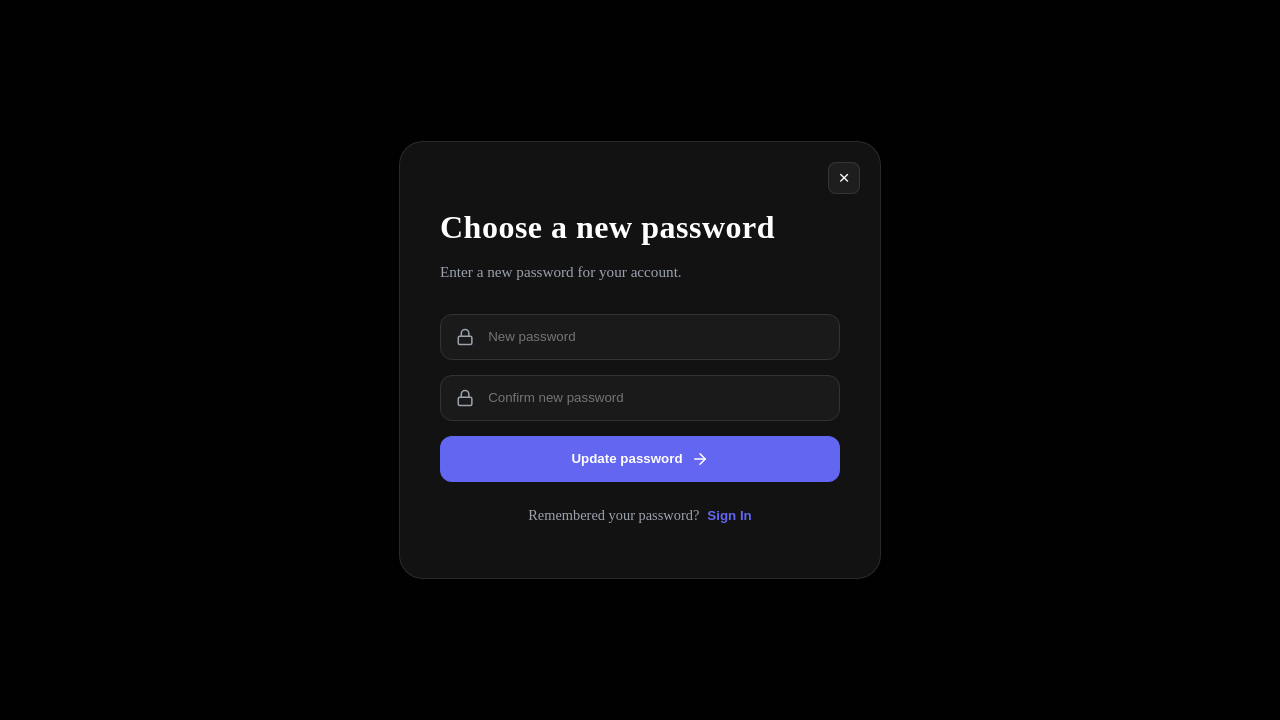
Auth › opens the reset form from a reset-token link and submits the new password
This screenshot has width=1280, height=720.
Type "new-secure-password" into the password field with placeholder "New password".
click(655, 337); type("new-secure-password")  # box top-left (486, 328), bottom-right (824, 345)
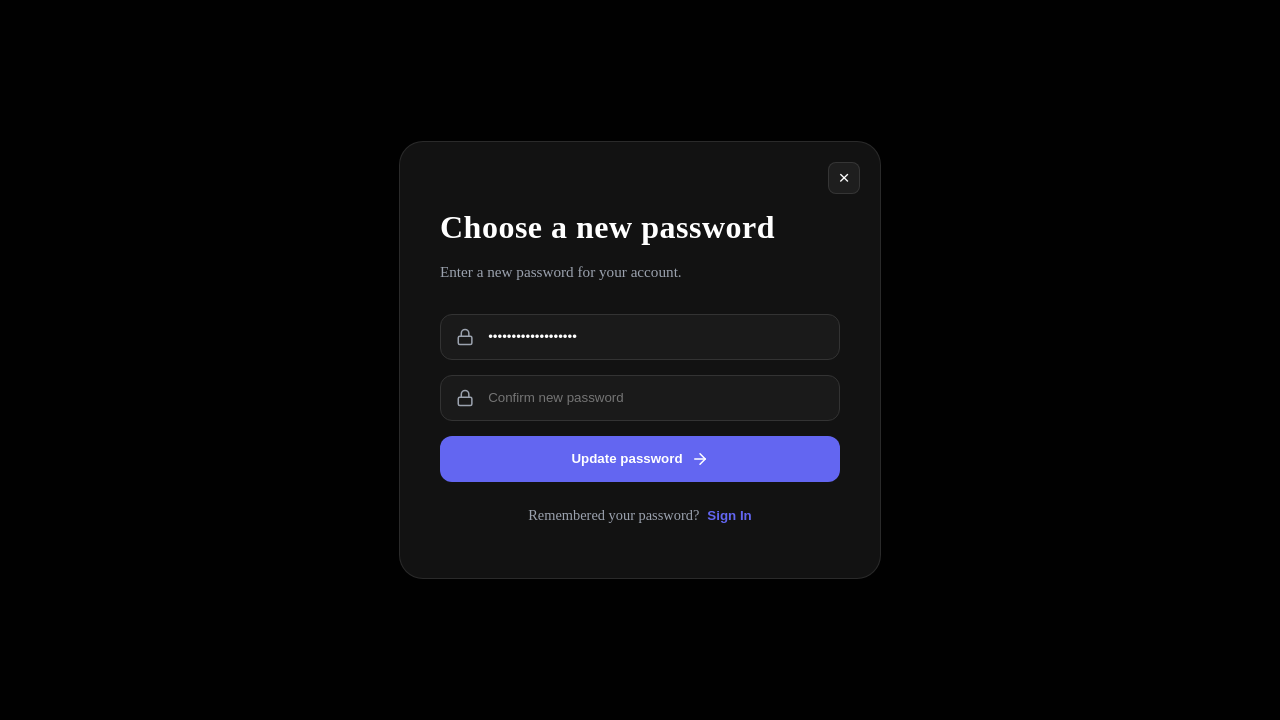
Type "new-secure-password" into the password field with placeholder "Confirm new password".
click(655, 398); type("new-secure-password")  # box top-left (486, 389), bottom-right (824, 406)
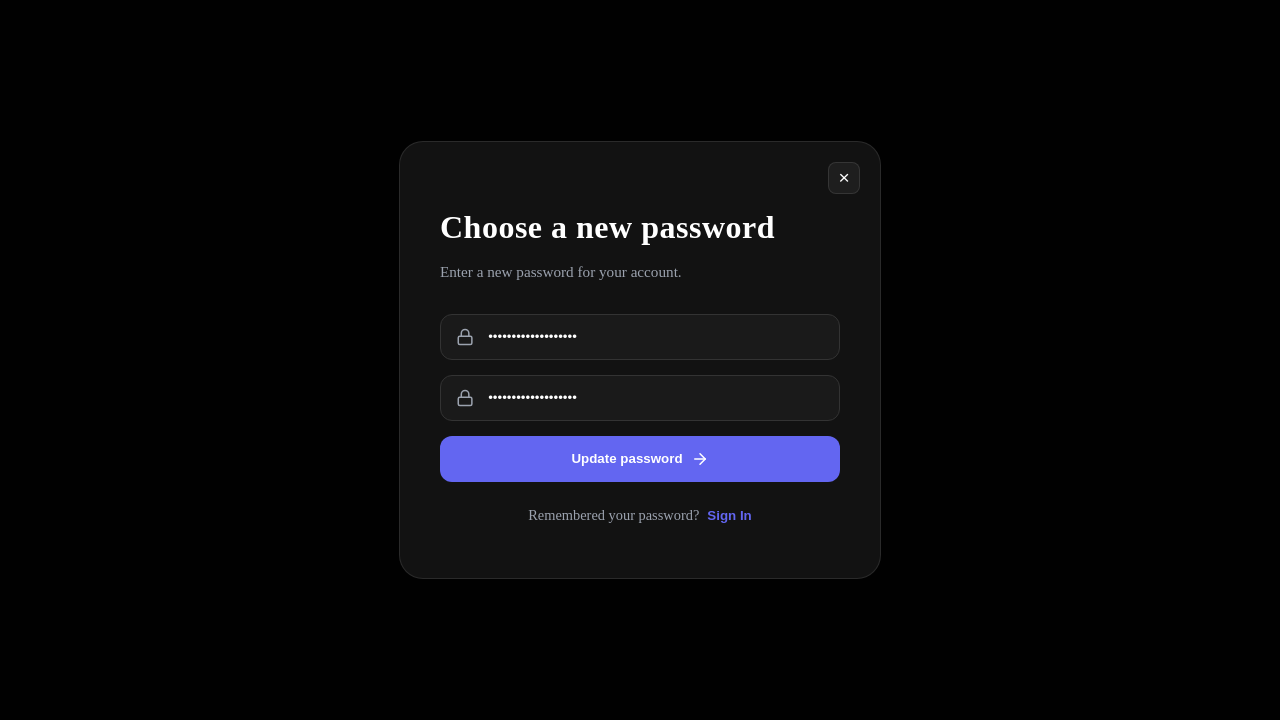
Click the button "Update password".
click(640, 459)  # box top-left (440, 436), bottom-right (840, 482)
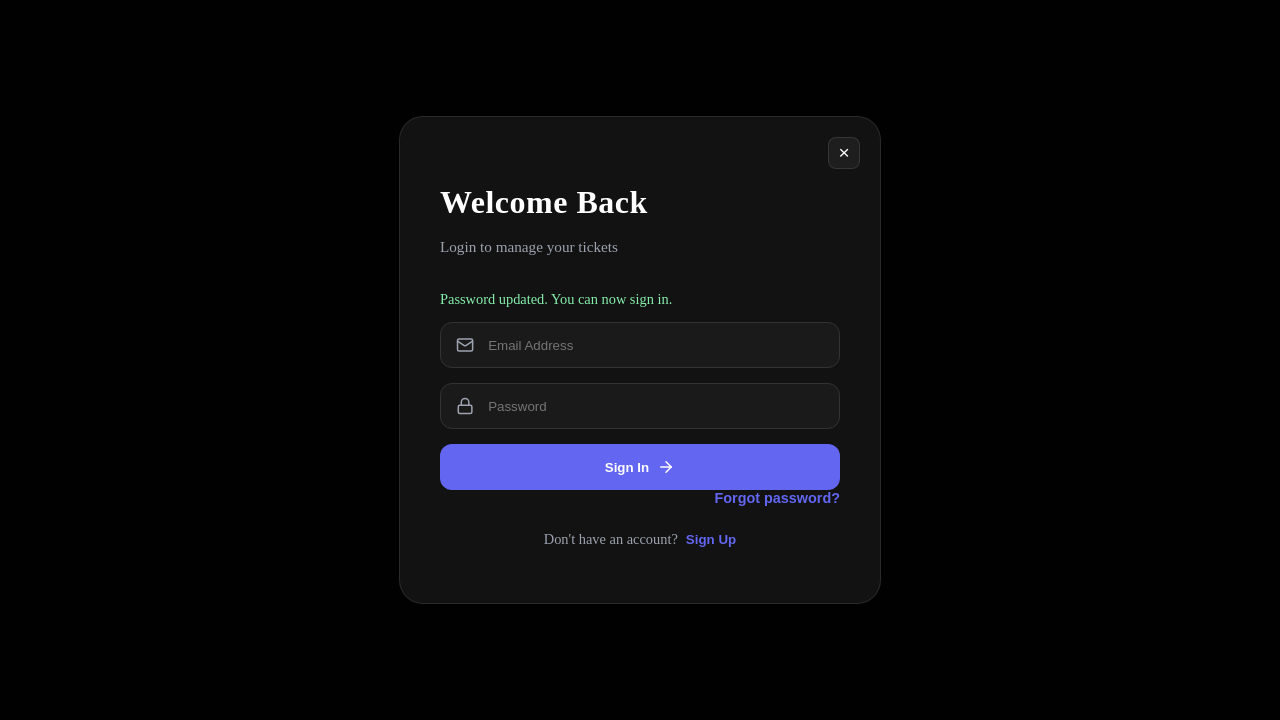
Now the message shows "Password updated", box top-left (440, 291), bottom-right (672, 307)
